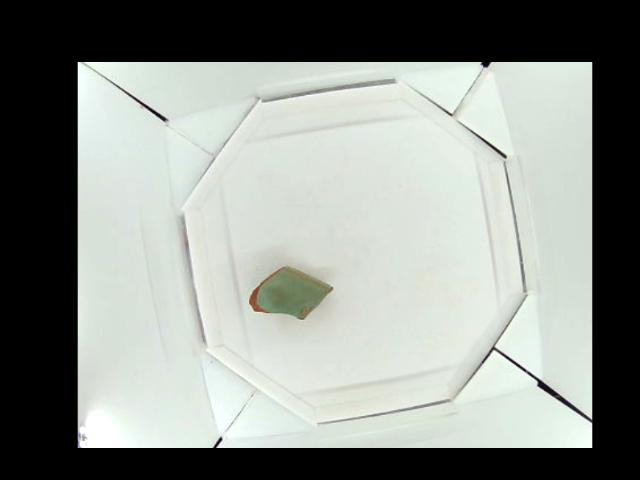China: (248, 264, 333, 317)
